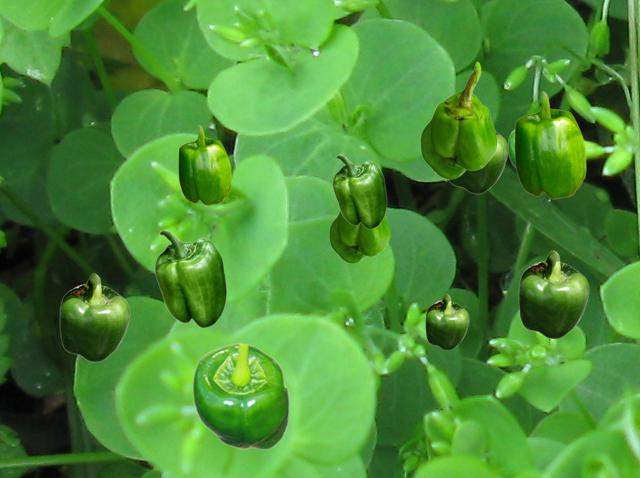bell_pepper: (191, 342, 289, 449), (420, 61, 496, 178), (514, 91, 585, 198), (154, 229, 226, 327), (59, 273, 129, 361), (518, 250, 588, 338), (178, 125, 230, 204), (332, 154, 386, 228), (447, 131, 507, 193), (329, 212, 389, 262), (425, 294, 468, 349), (507, 129, 514, 167)
